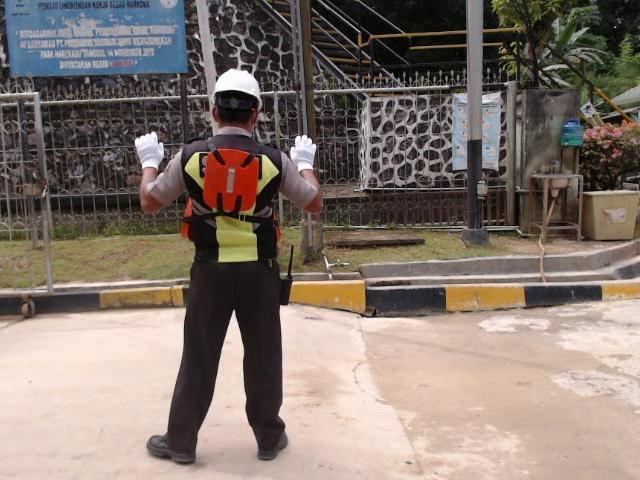vest: (203, 145, 258, 214)
